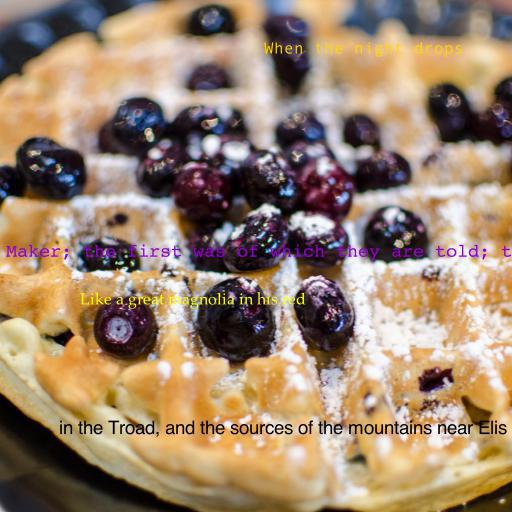Andale Mono: (264, 42, 464, 57)
Courier: (0, 244, 512, 261)
Impact: (59, 420, 507, 437)
Palatino: (80, 291, 306, 309)
